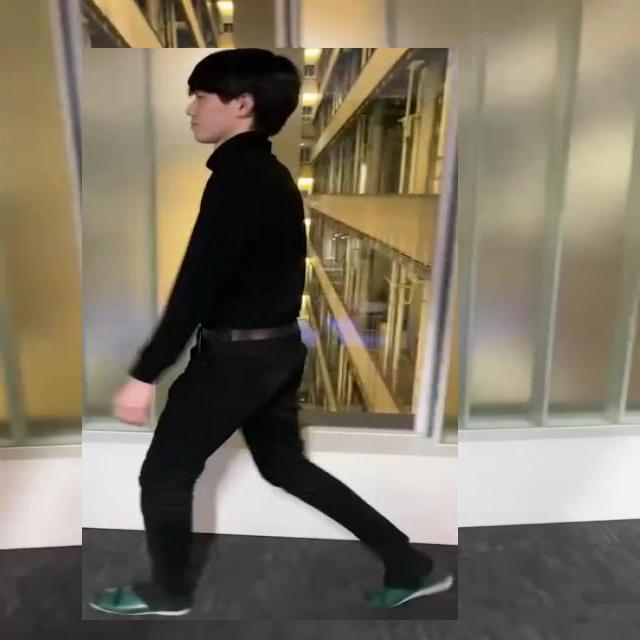direk: (82, 48, 458, 620)
